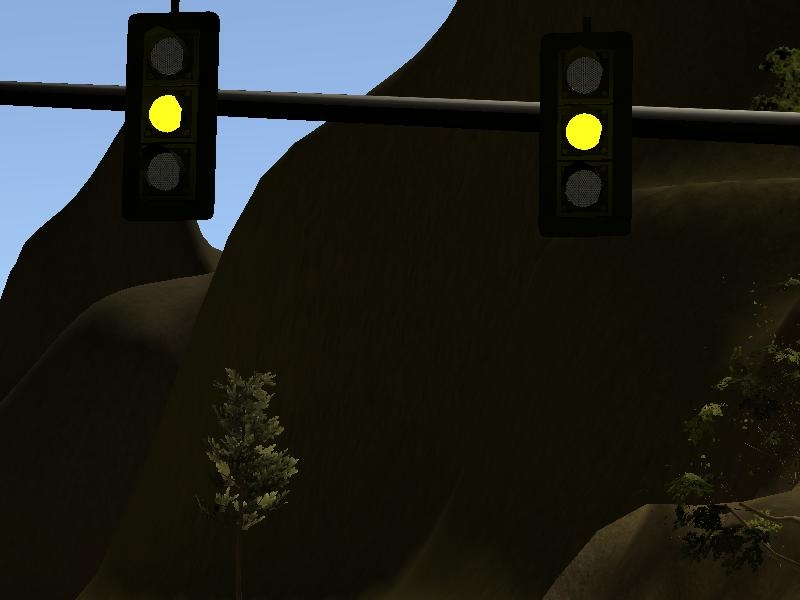yellow: (110, 1, 229, 235), (529, 13, 643, 244)
